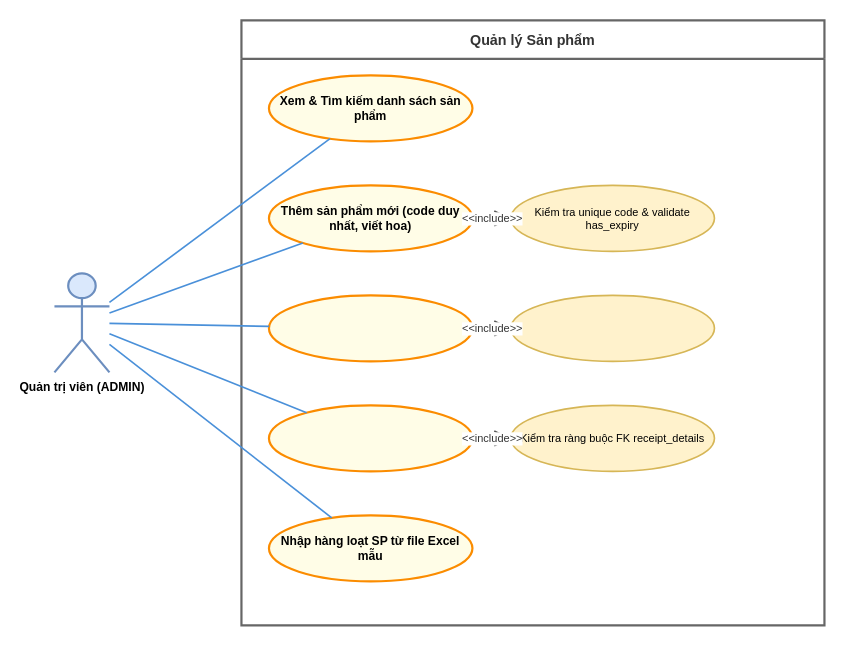
The diagram is 844 pixels wide and 645 high, and some of its shapes have lost their labels. The centre of each missing label's shape, as x and y in pixels:
"Cập nhật thông tin sản phẩm" belongs at pixel 370 328.
"Không đổi has_expiry nếu đã có tồn kho/GD" belongs at pixel 612 328.
"Xóa sản phẩm (nếu chưa có GD)" belongs at pixel 370 438.
